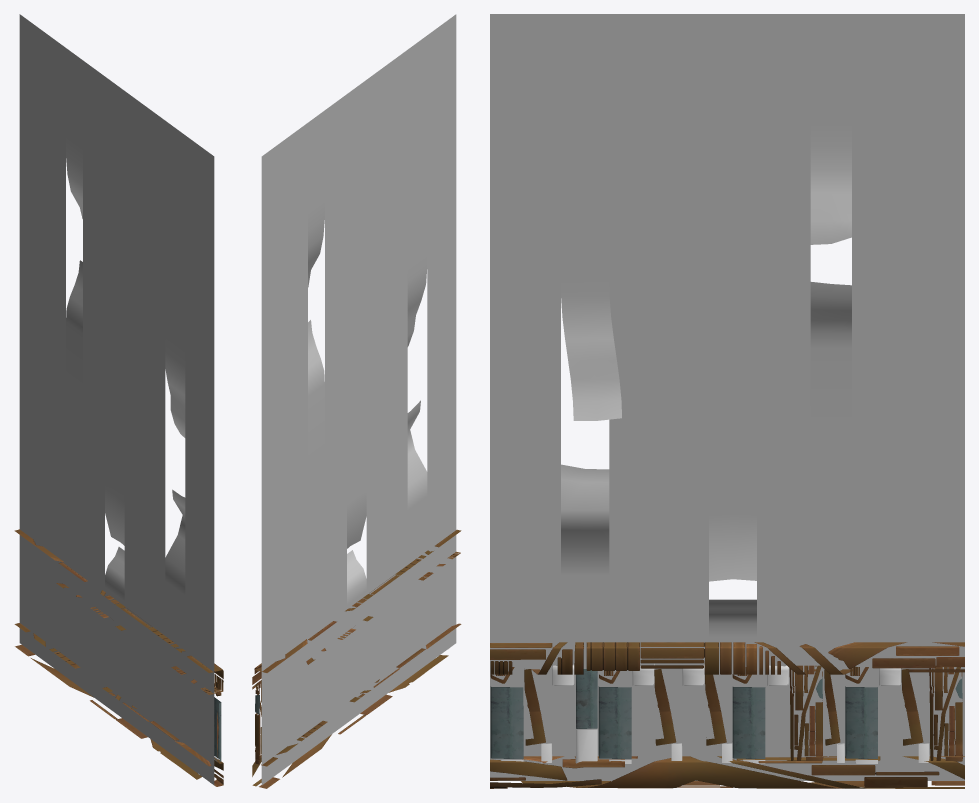
File: modular_wall_peeled.fbx
3 renders of one model, left to right at view 1: azimuth 30°, elevation 25°; view 2: azimuth 150°, elevation 25°; view 3: azimuth 270°, elevation 25°, orthographic. The views are drawn at different scales.
Visible parts, largest first — view 1: wall_modular.007, wall_modular.003; view 2: wall_modular.007, wall_modular.003; view 3: wall_modular.007, wall_modular.003.
Part boxes in pixels (x1,y1,x2,y2): wall_modular.007: (19, 14, 214, 784); wall_modular.003: (14, 529, 223, 786); wall_modular.007: (261, 14, 456, 785); wall_modular.003: (252, 529, 461, 788); wall_modular.007: (490, 14, 964, 780); wall_modular.003: (490, 642, 964, 788).
Size of the model in its own units: 35.77 by 847 by 474.
